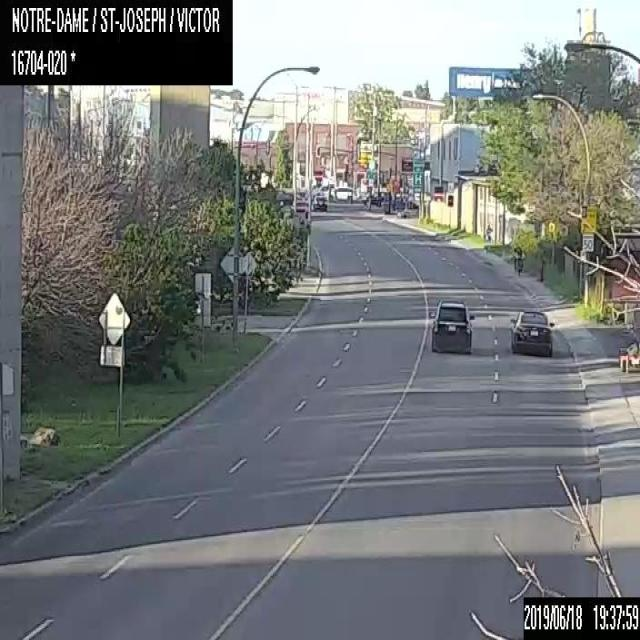construction: (610, 218, 639, 372)
pedestrian: (512, 245, 524, 275)
vehicle: (429, 299, 474, 351), (509, 308, 554, 356), (363, 190, 391, 206), (328, 186, 356, 202), (311, 194, 327, 210), (295, 200, 308, 218)
